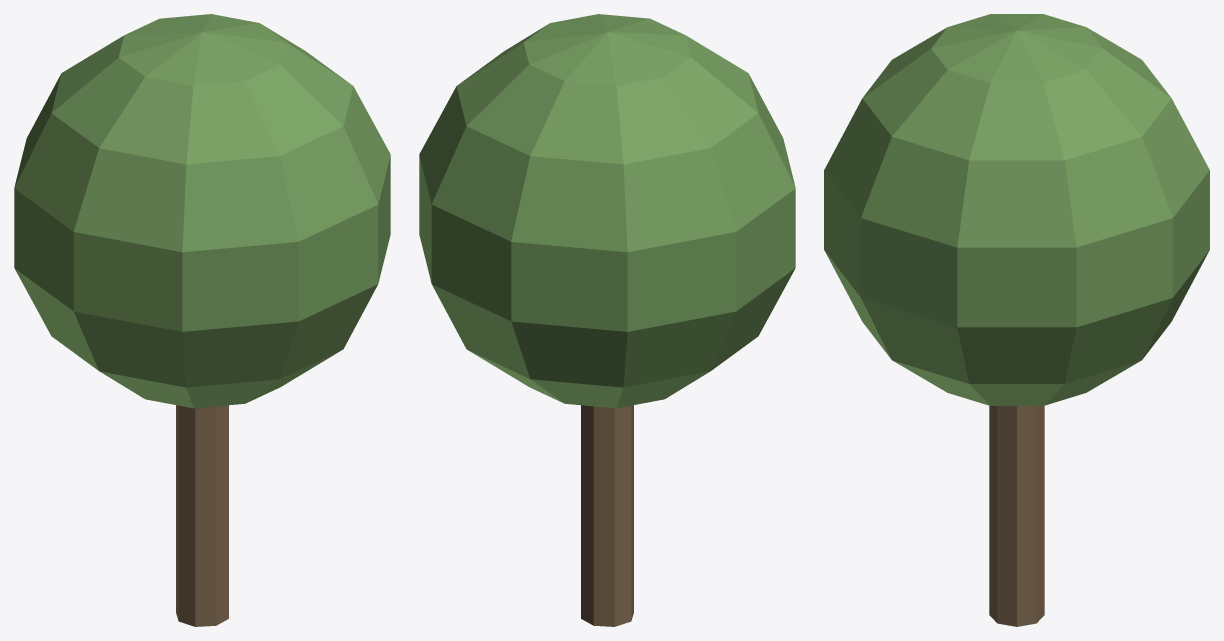
The model's file is tree_oak.fbx.
3 renders of one model, left to right at view 1: azimuth 30°, elevation 25°; view 2: azimuth 150°, elevation 25°; view 3: azimuth 270°, elevation 25°, orthographic.
Visible parts, largest first — view 1: tree_oak; view 2: tree_oak; view 3: tree_oak.
Part boxes in pixels (left/top/right/bottom): tree_oak: left=14, top=14, right=390, bottom=626; tree_oak: left=419, top=14, right=795, bottom=626; tree_oak: left=824, top=14, right=1209, bottom=626.
Bounding box in the file's own units: 2.13 × 3.75 × 2.24.
